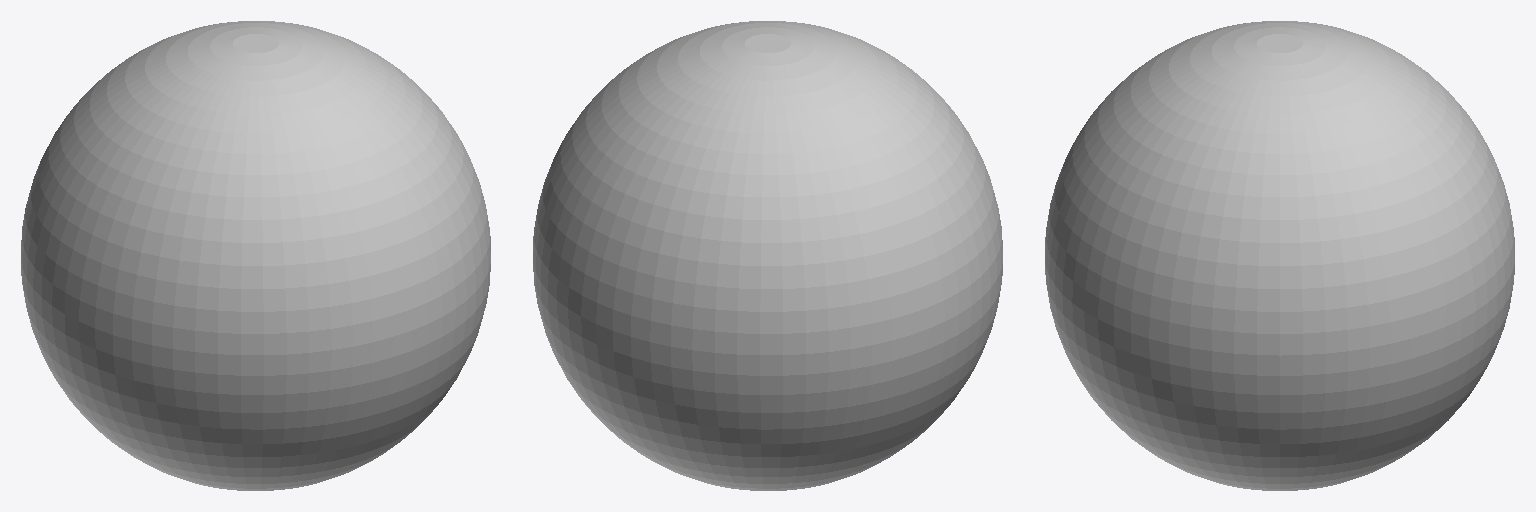
The model's file is planet.obj.
3 views of the same model, side by side, from view 1: azimuth 30°, elevation 25°; view 2: azimuth 150°, elevation 25°; view 3: azimuth 270°, elevation 25° (orthographic).
Parts seen in each view (by area): view 1: planet_Sphere.002; view 2: planet_Sphere.002; view 3: planet_Sphere.002.
Boxes of the visible parts, x1=… form: planet_Sphere.002: x1=21, y1=21, x2=490, y2=490; planet_Sphere.002: x1=533, y1=21, x2=1002, y2=490; planet_Sphere.002: x1=1045, y1=21, x2=1514, y2=490.
Bounding box in the file's own units: 2 × 1.99 × 2.